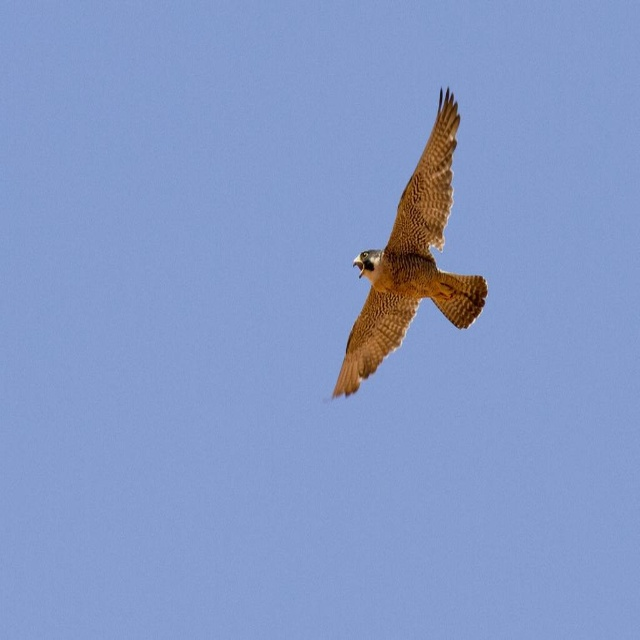Eagle: (328, 82, 493, 400)
